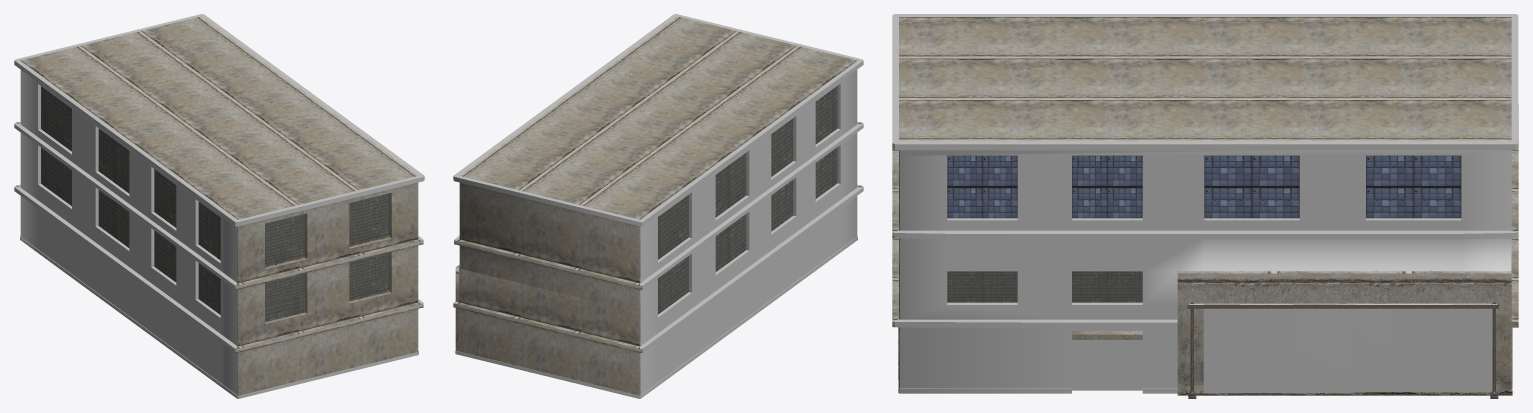
Rendered from WarehouseBrickA.FBX.
The picture shows the model from 3 angles, left to right: view 1: azimuth 30°, elevation 25°; view 2: azimuth 150°, elevation 25°; view 3: azimuth 270°, elevation 25°; orthographic projection. The views are drawn at different scales.
Parts seen in each view (by area): view 1: WarehouseBrickA; view 2: WarehouseBrickA; view 3: WarehouseBrickA.
Part boxes in pixels (<box>): WarehouseBrickA: <box>14,14,424,398</box>; WarehouseBrickA: <box>453,14,863,398</box>; WarehouseBrickA: <box>892,14,1518,398</box>.
Size of the model in its own units: 1283 by 1135 by 2555.
